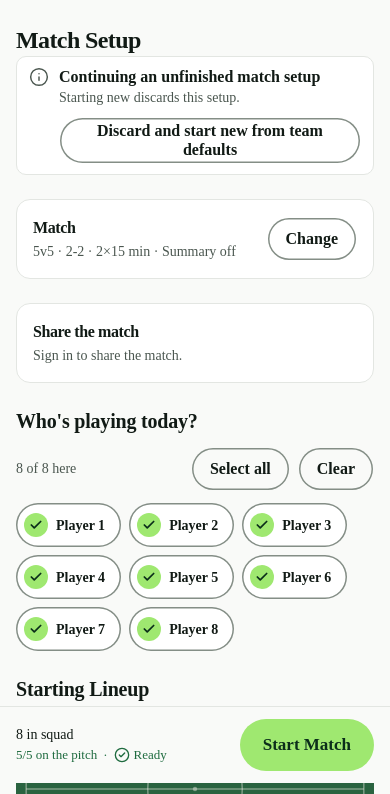
Test case: MatchSetupManager with an active match › rejects a start when a match became active after setup opened, keeping that match
Step 1. Click the button "Start Match" → (307, 745), box top-left (240, 719), bottom-right (374, 771)
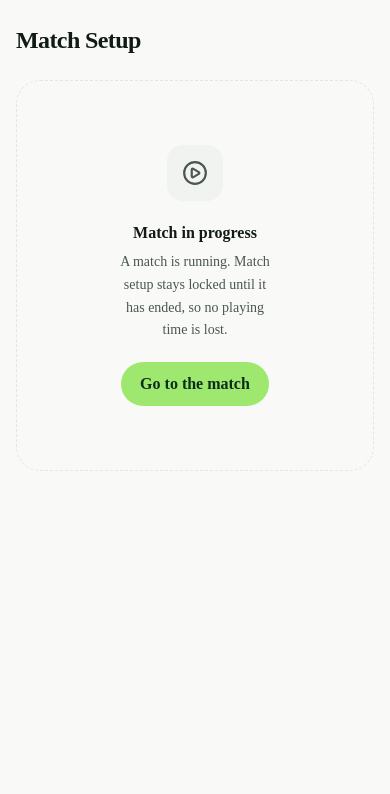
Expected: the text "Match in progress" is shown, top-left (133, 224), bottom-right (257, 241)
